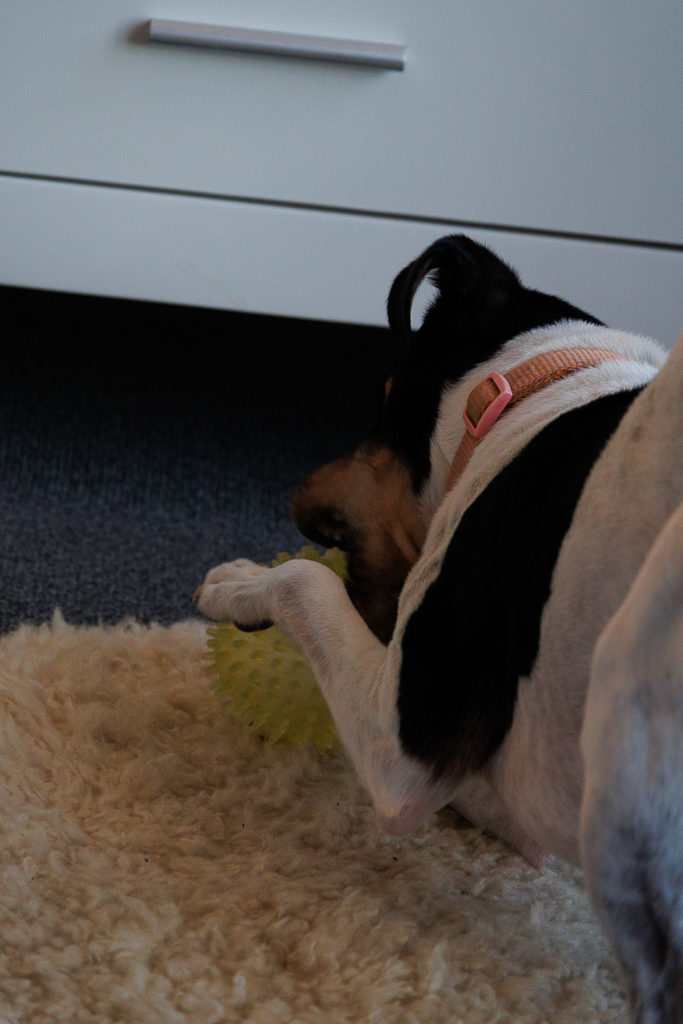Dog: (180, 224, 683, 1024)
